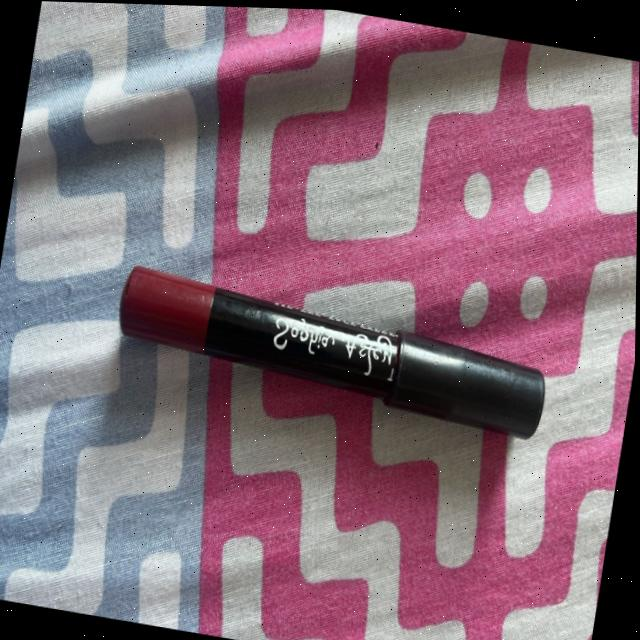eye shade: (109, 197, 572, 442)
